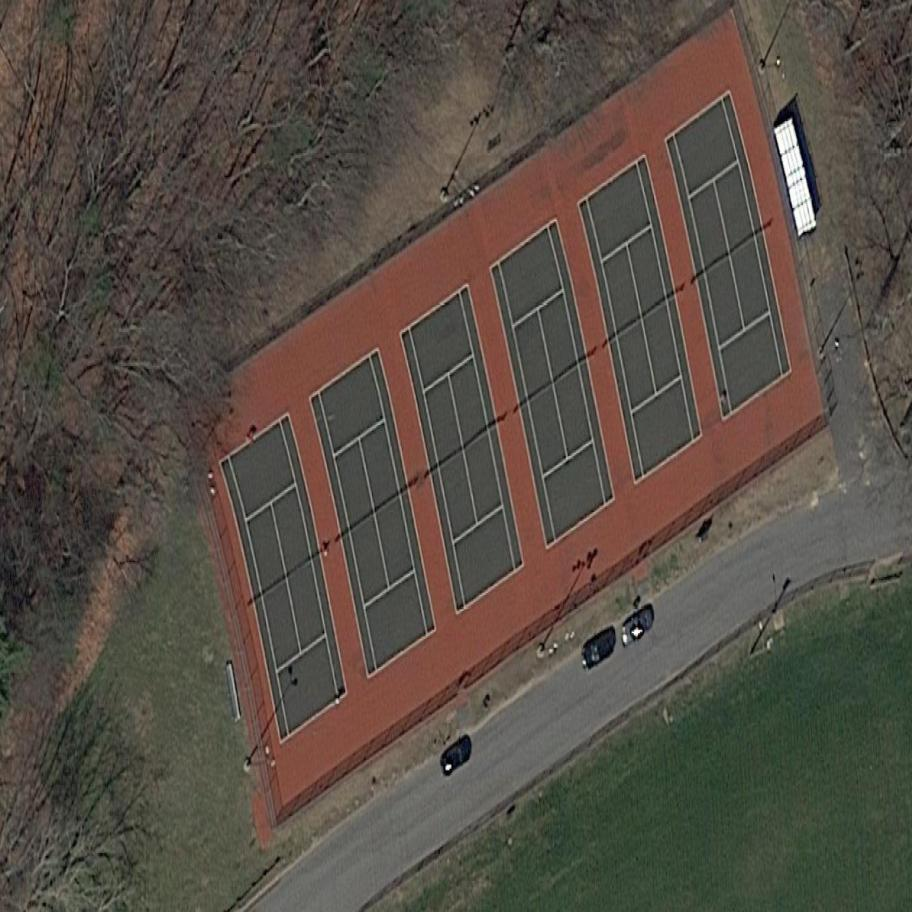small-vehicle: (425, 726, 488, 785), (569, 624, 627, 677), (610, 601, 666, 651)
